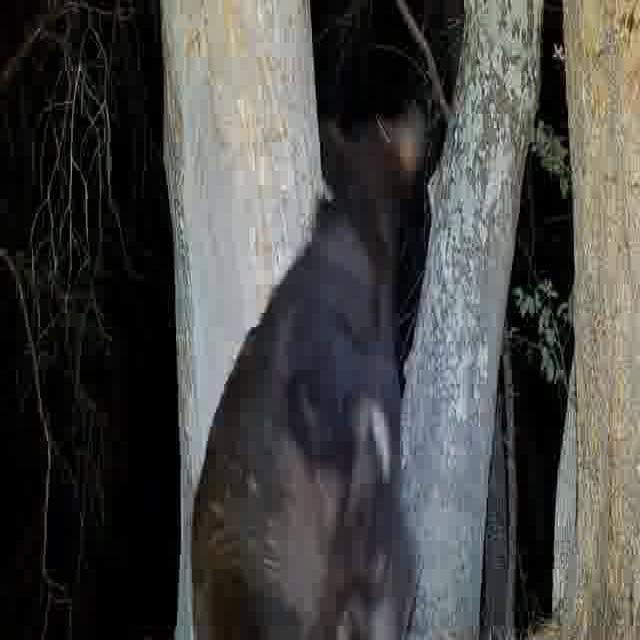bear face: (189, 98, 423, 640)
